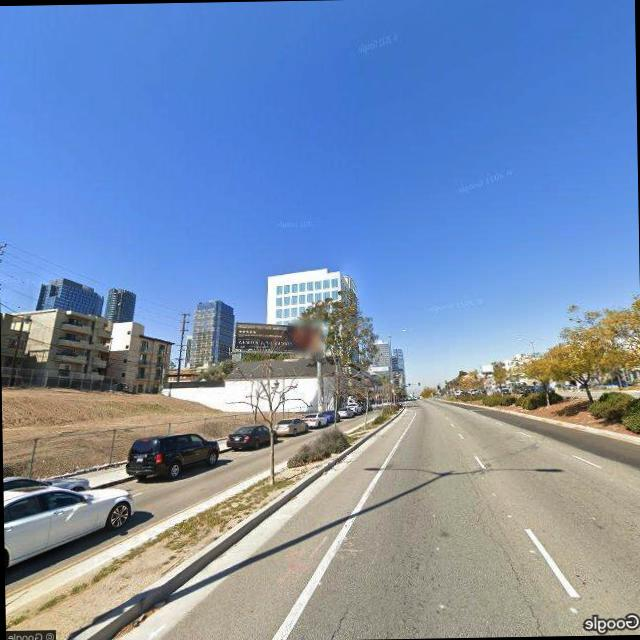crack: (468, 482, 554, 635), (322, 601, 353, 639)
